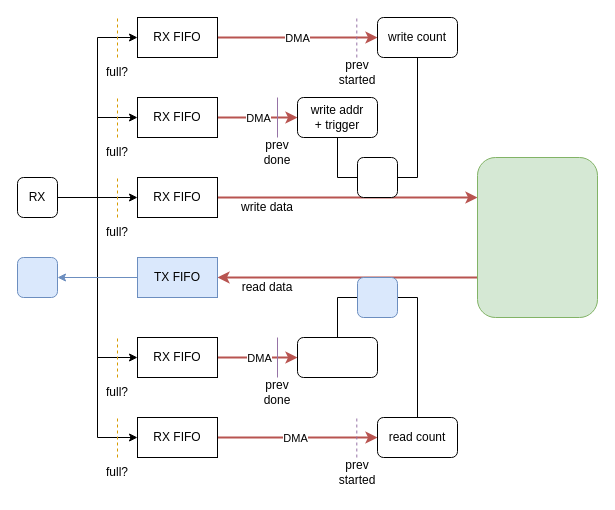
This 615x510 diagram has some shape labels left out. The centre of each missing label's shape, as x and y in pixels:
"read addr + trigger" belongs at point 337,357.
"read DMA" belongs at point 377,297.
"RP2040 RAM" belongs at point 537,237.
"TX" belongs at point 37,277.
"write DMA" belongs at point 377,177.
